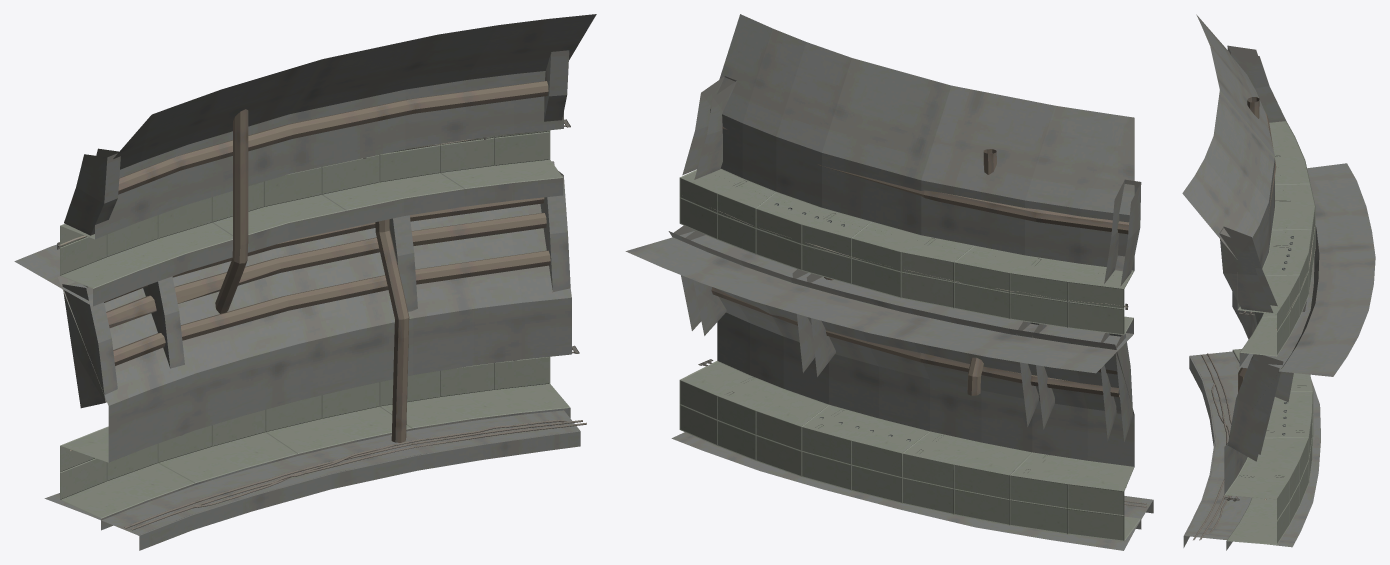
File: SM_ENV_TCHEXA_ArenaWall_Aa.fbx
3 views of the same model, side by side, from view 1: azimuth 30°, elevation 25°; view 2: azimuth 150°, elevation 25°; view 3: azimuth 270°, elevation 25° (orthographic). The views are drawn at different scales.
Parts seen in each view (by area): view 1: SM_ENV_TCHEXA_ArenaWall_Aa.mo; view 2: SM_ENV_TCHEXA_ArenaWall_Aa.mo; view 3: SM_ENV_TCHEXA_ArenaWall_Aa.mo.
Part boxes in pixels (left/top/right/bottom): SM_ENV_TCHEXA_ArenaWall_Aa.mo: left=14, top=14, right=596, bottom=550; SM_ENV_TCHEXA_ArenaWall_Aa.mo: left=625, top=14, right=1153, bottom=550; SM_ENV_TCHEXA_ArenaWall_Aa.mo: left=1182, top=14, right=1375, bottom=550.
Size of the model in its own units: 3888 by 3066 by 1487.
